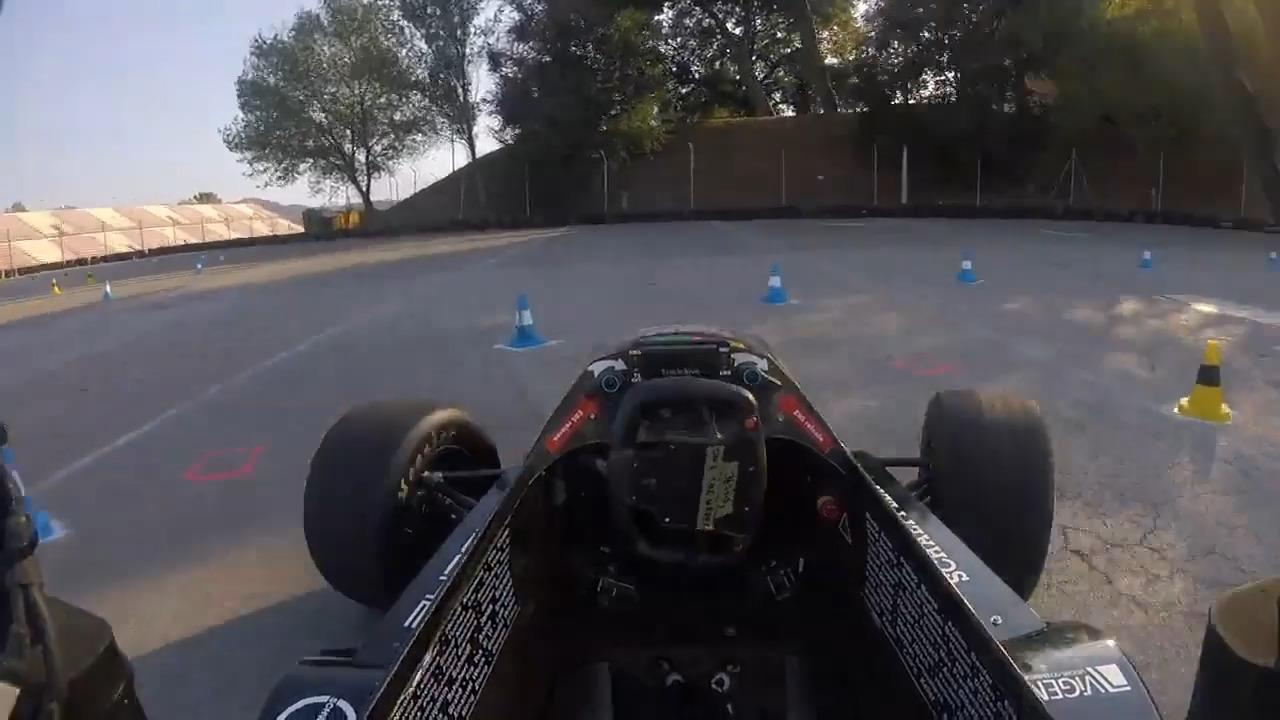blue_cone: (505, 295, 546, 349), (765, 260, 785, 303), (957, 246, 979, 282), (1263, 242, 1280, 273), (1137, 241, 1155, 270), (100, 279, 114, 303)
yellow_cone: (1173, 338, 1235, 426), (48, 277, 63, 298)
